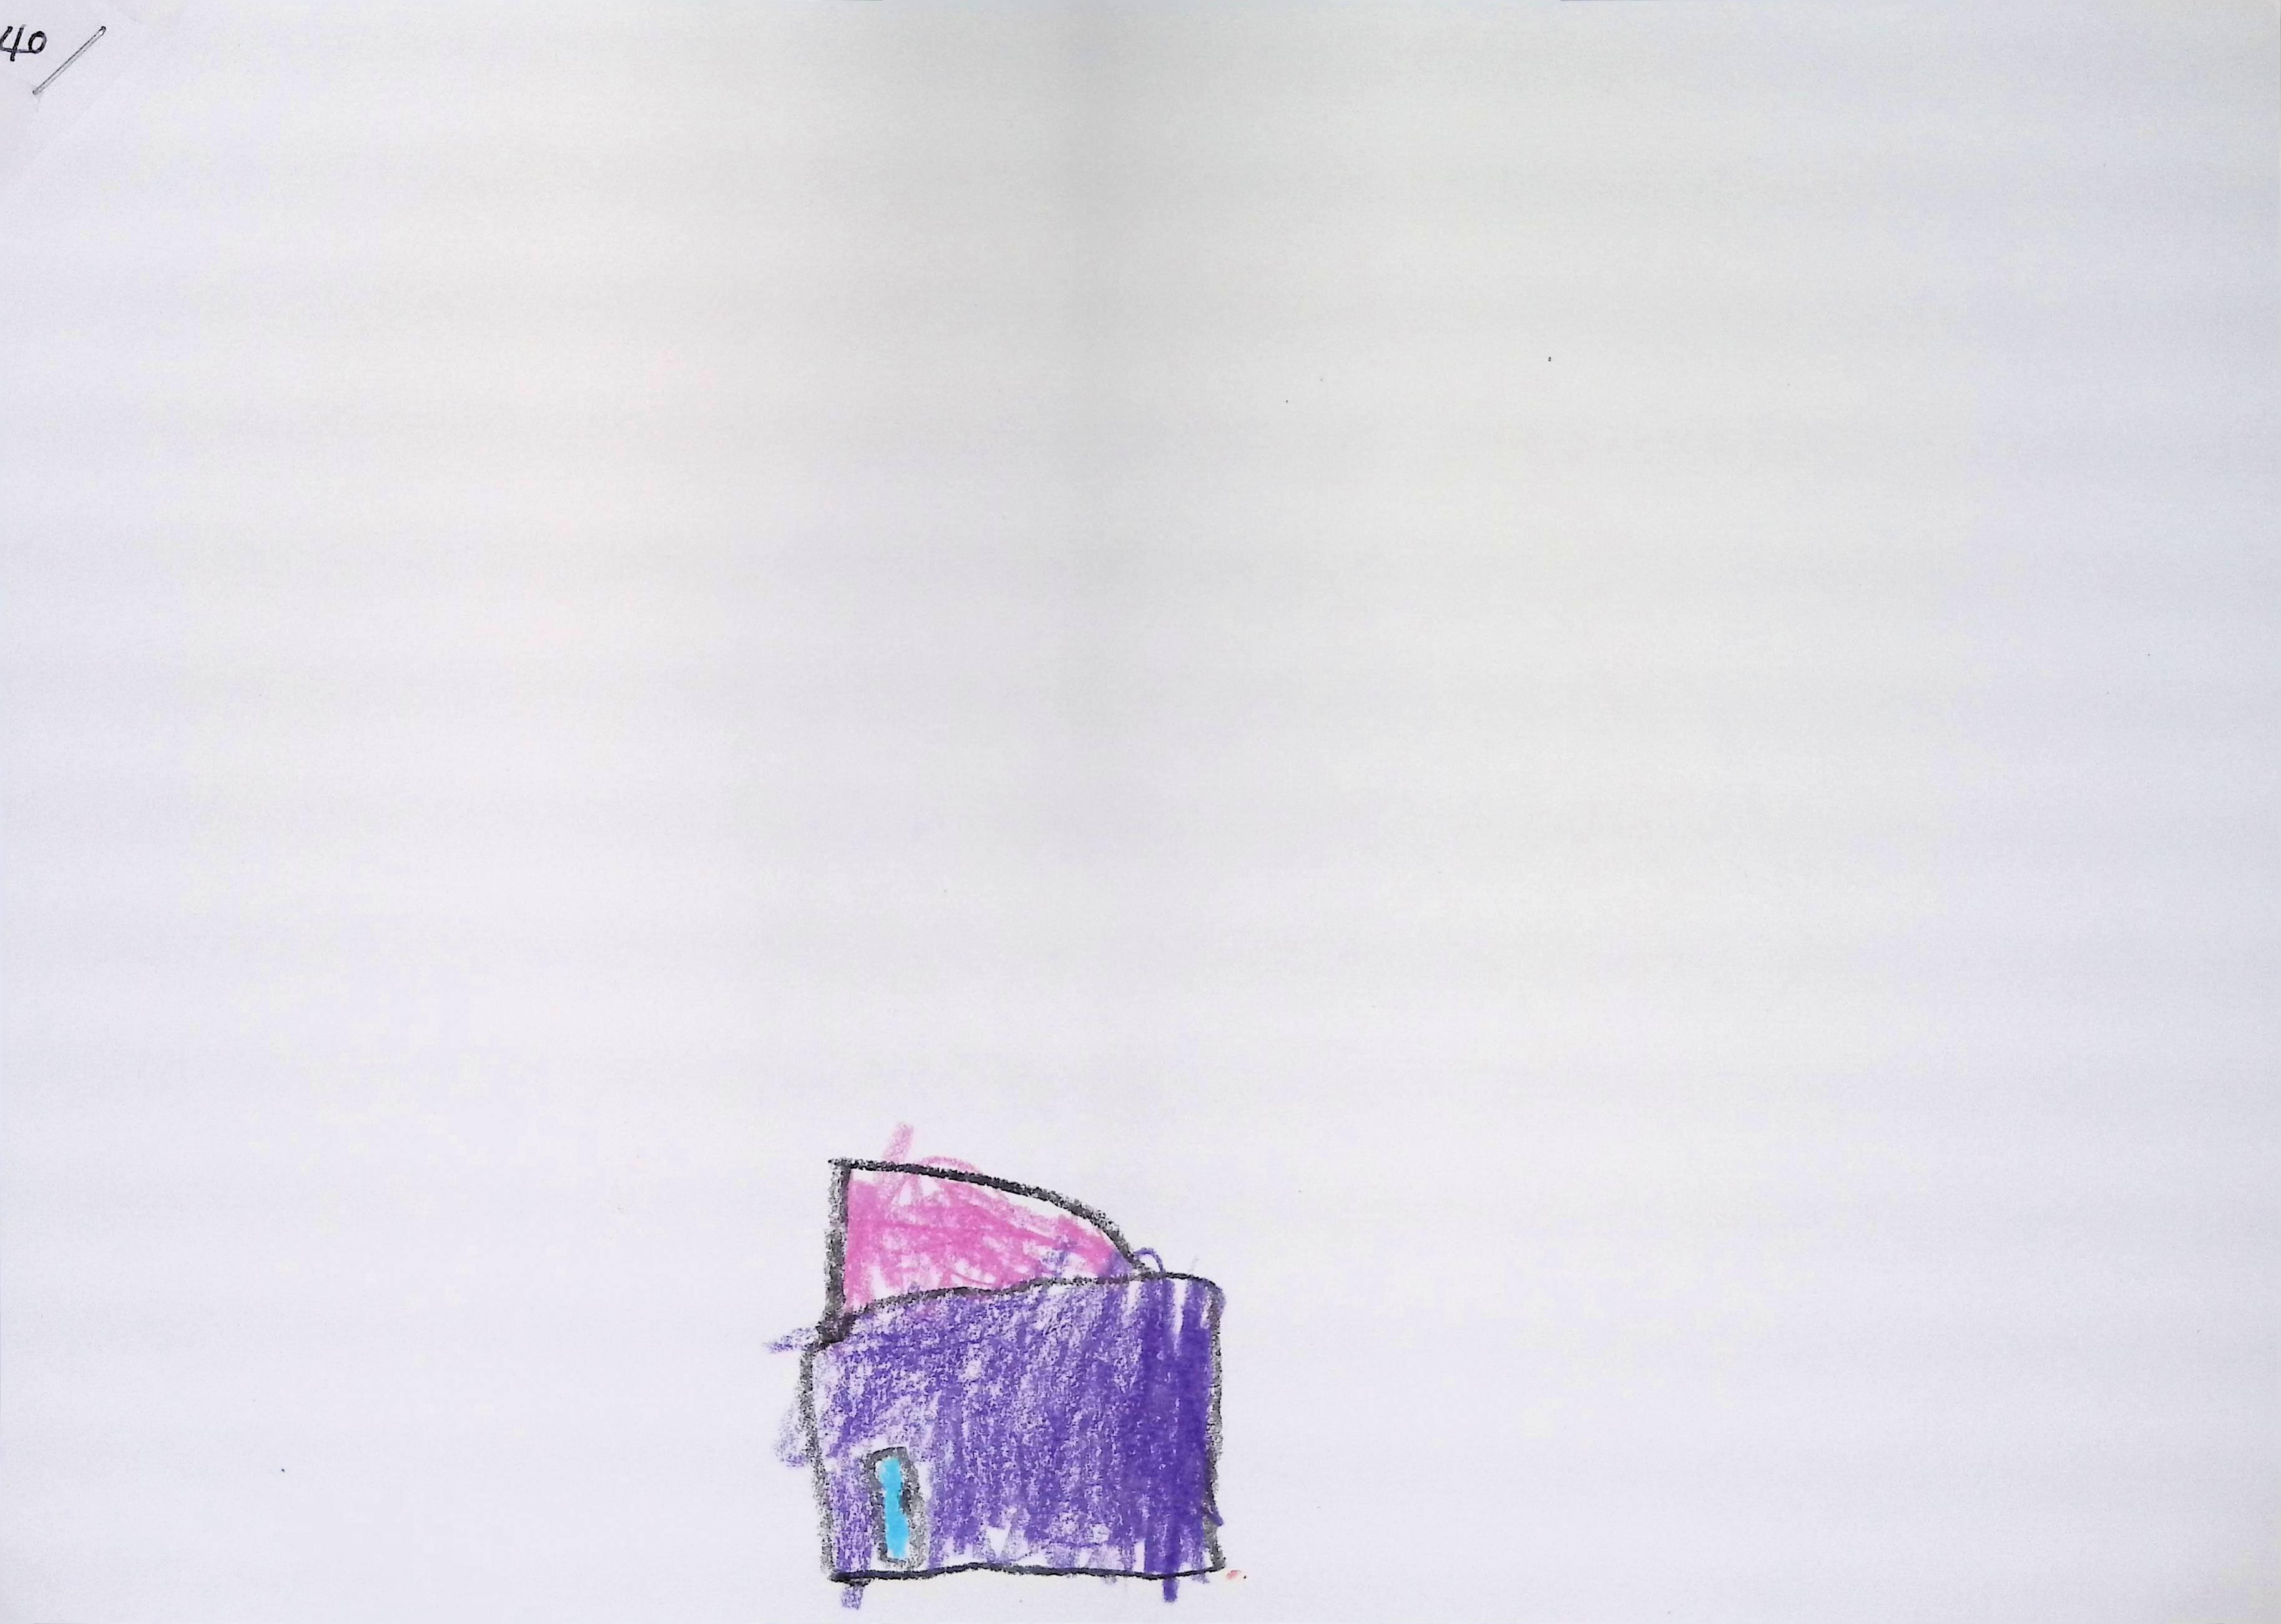door: (865, 1448, 923, 1568)
house: (800, 1158, 1223, 1598)
roof: (844, 1172, 1132, 1313)
wall: (805, 1276, 1223, 1584)
